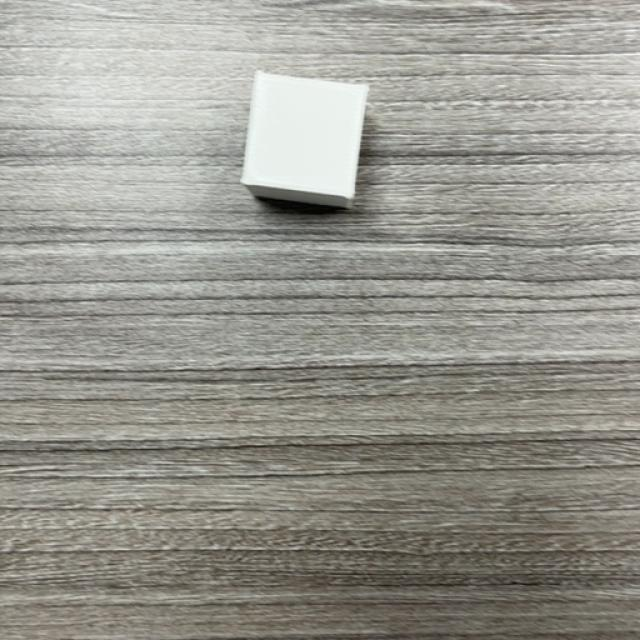Blanco: (241, 71, 369, 211)
